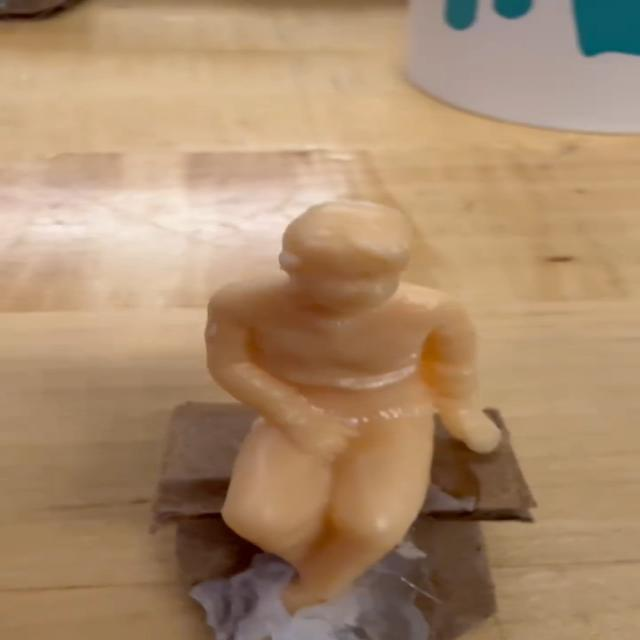Unauthorized: (187, 198, 526, 640)
